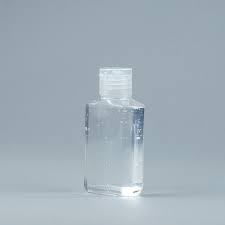available: (80, 61, 149, 200)
